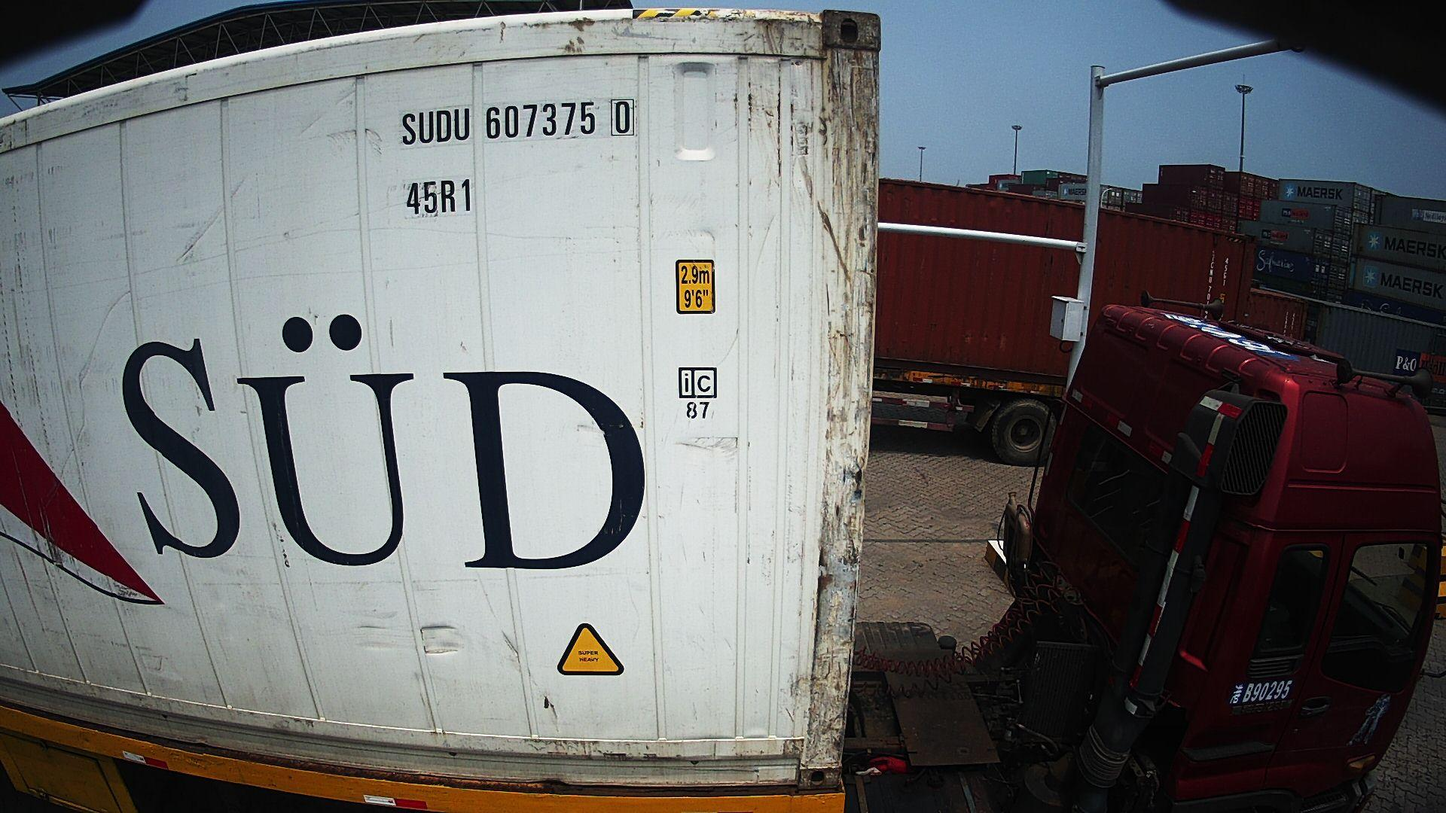container-numbers: (395, 97, 640, 148), (403, 175, 478, 218)
